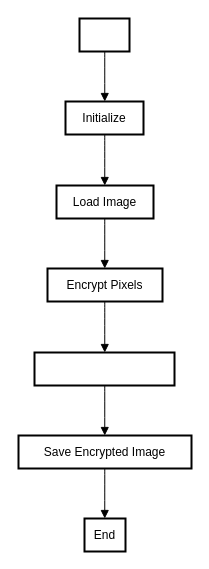
Image size: 209x569. Some labels were removed from this diagram. The shapes that lost their labels are listed below. From the top down, each one's centre as x and y in pixels, then its label:
pixel 104 34: Start
pixel 104 368: Manipulate Pixels
